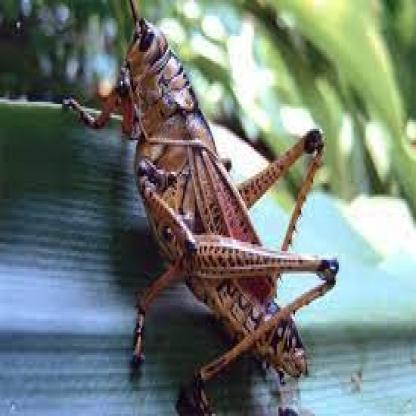grasshopper: (62, 0, 342, 416)
